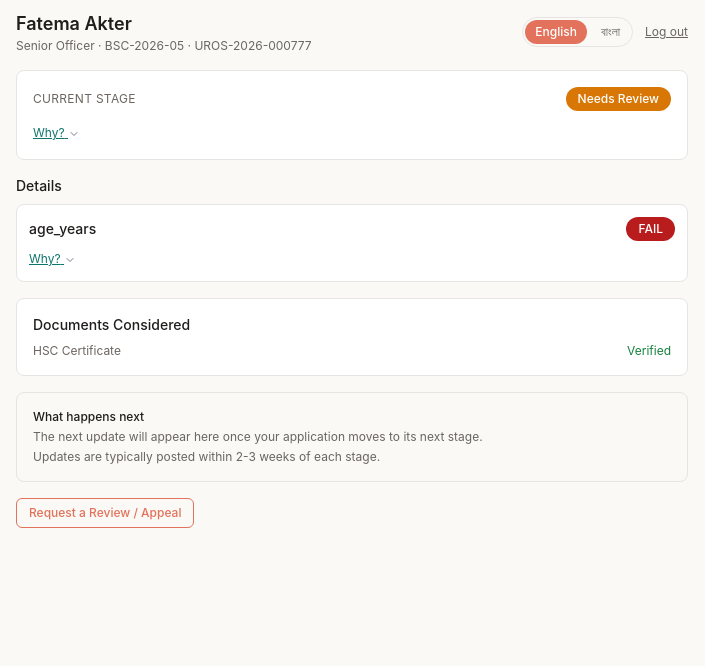
Scenario: ApplicantStatusPortal › expands a reason's Why? link to reveal reason_code, reason_description, and evidence
The image size is (705, 666).
Click the button "Why?" below "age_years" at (52, 259), box [29,251,76,267]
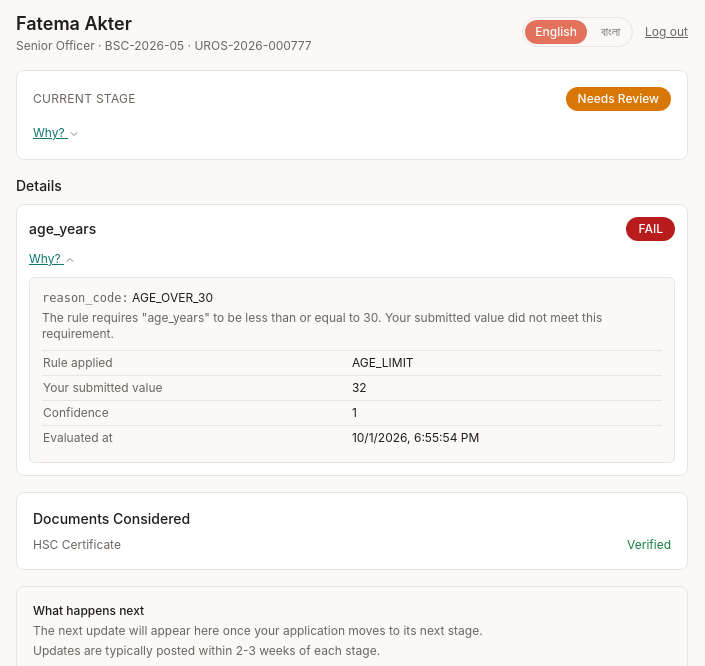
Check: the text "AGE_OVER_30" is shown, box [132,290,213,305]
Check: the text "did not meet this requirement" is shown, box [42,310,602,341]
Check: the text "AGE_LIMIT" is shown, box [351,350,662,376]
